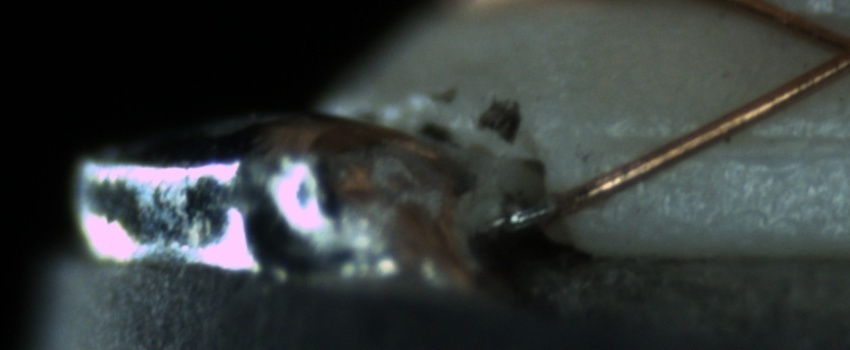CL: (804, 14, 850, 83)
DL: (609, 105, 843, 175)
TS: (484, 199, 557, 233)
